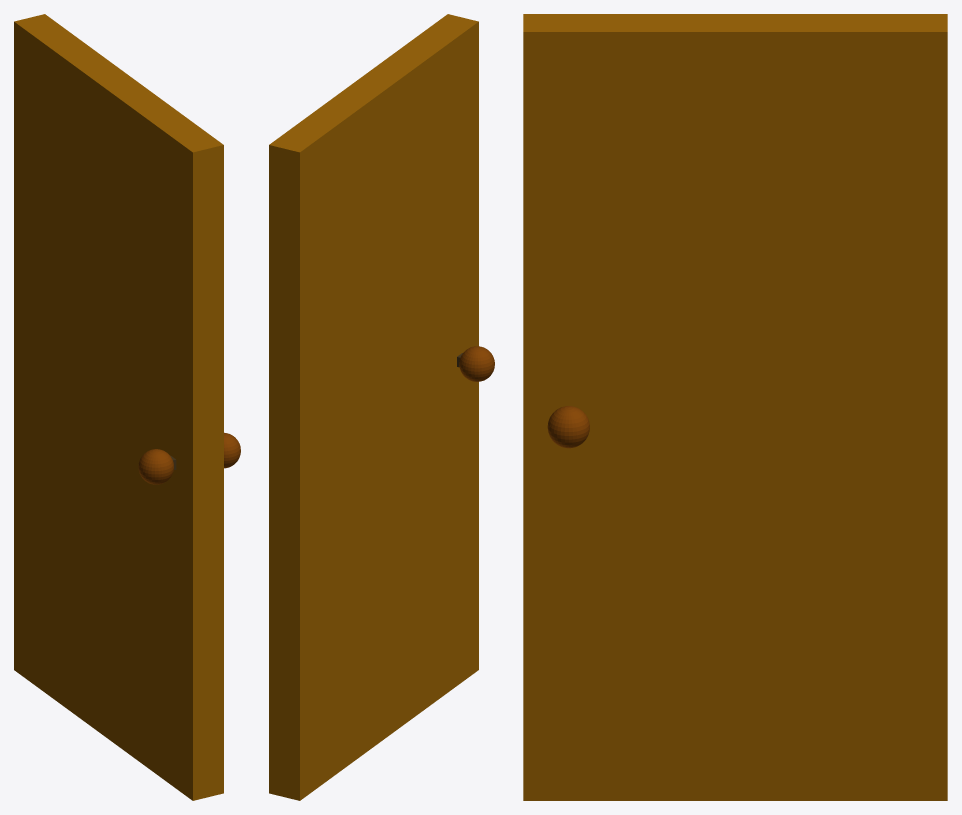
Rendered from Door(another).fbx.
3 renders of one model, left to right at view 1: azimuth 30°, elevation 25°; view 2: azimuth 150°, elevation 25°; view 3: azimuth 270°, elevation 25°, orthographic. The views are drawn at different scales.
Visible parts, largest first — view 1: DoorPart, Sphere.001, Sphere; view 2: DoorPart, Sphere.001; view 3: DoorPart, Sphere.
Boxes of the visible parts, box(x1,y1,x2,y2) form: DoorPart: box(14, 14, 223, 800); Sphere.001: box(138, 449, 173, 484); Sphere: box(224, 432, 240, 468); DoorPart: box(269, 14, 478, 800); Sphere.001: box(459, 346, 494, 381); DoorPart: box(523, 14, 947, 800); Sphere: box(547, 406, 589, 448).
Size of the model in its own units: 126 by 800 by 400.
